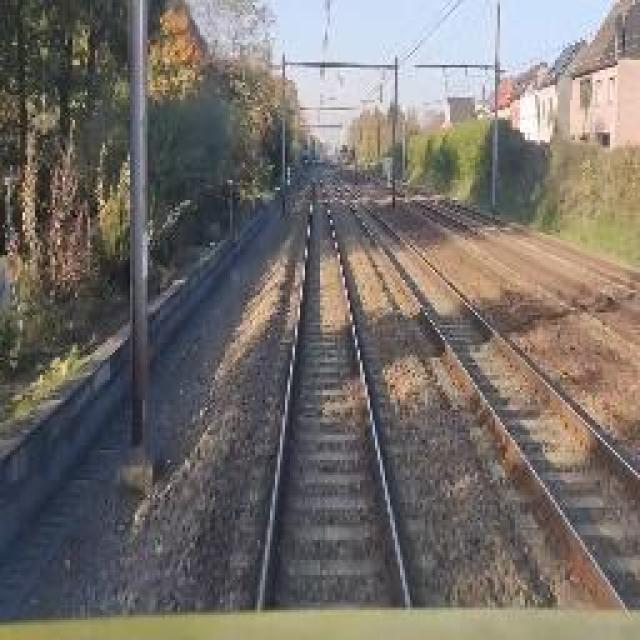rail: (320, 161, 640, 612), (237, 166, 434, 613)
